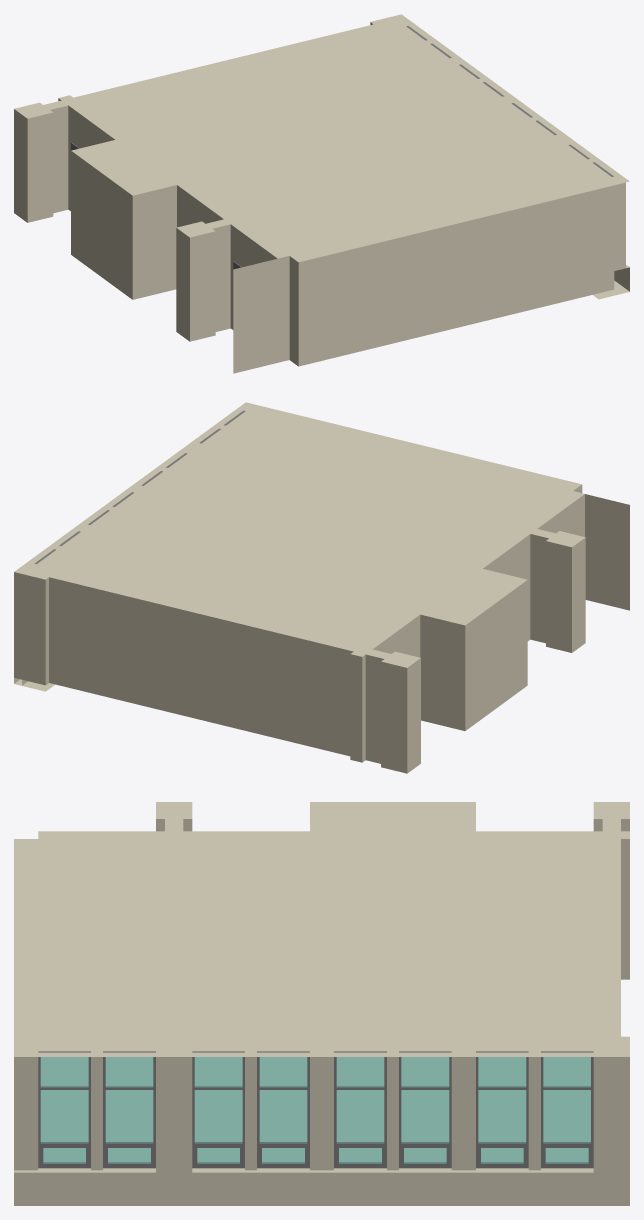
Rendered from class.fbx.
3 renders of one model, top to bottom at view 1: azimuth 30°, elevation 25°; view 2: azimuth 150°, elevation 25°; view 3: azimuth 270°, elevation 25°, orthographic. The views are drawn at different scales.
Parts seen in each view (by area): view 1: wall.001; view 2: wall.001; view 3: wall.001, window4.001.
Boxes of the visible parts, box(x1,y1,x2,y2) form: wall.001: box(14, 14, 629, 373); wall.001: box(14, 402, 629, 773); wall.001: box(14, 802, 629, 1205); window4.001: box(38, 1051, 593, 1168).
Bounding box in the file's own units: 24810 × 6750 × 25333.
